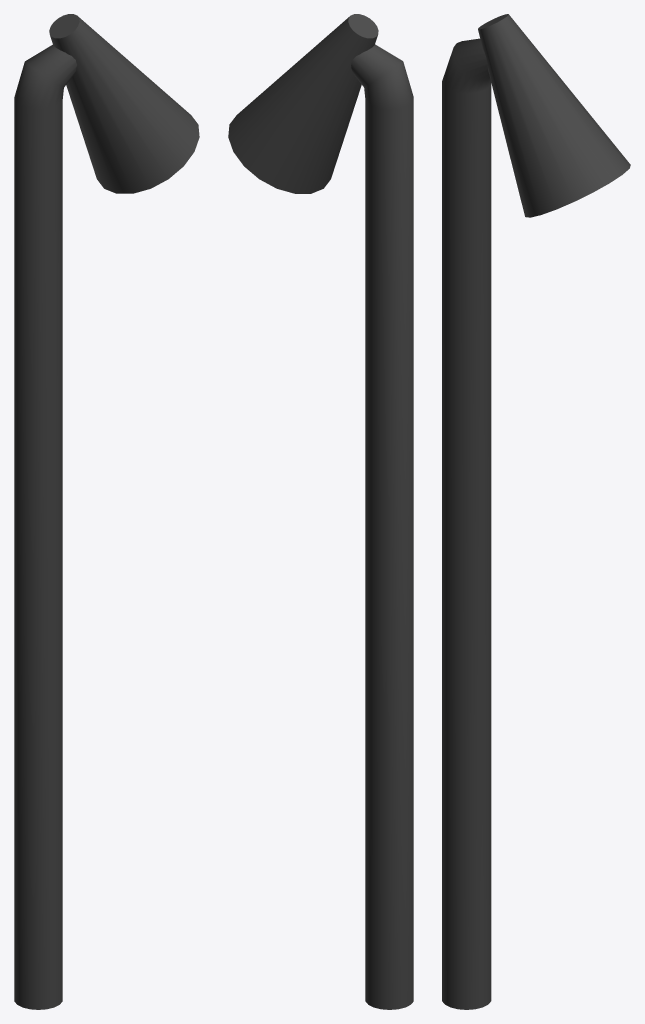
File: M_Lampadaire.FBX
3 views of the same model, side by side, from view 1: azimuth 30°, elevation 25°; view 2: azimuth 150°, elevation 25°; view 3: azimuth 330°, elevation 25° (orthographic).
Visible parts, largest first — view 1: Stop Sign001; view 2: Stop Sign001; view 3: Stop Sign001.
Part boxes in pixels (x1,y1,x2,y2): Stop Sign001: (14, 14, 199, 1009); Stop Sign001: (228, 14, 413, 1009); Stop Sign001: (442, 14, 630, 1009).
Size of the model in its own units: 0.7664 by 0.4355 by 4.1.
